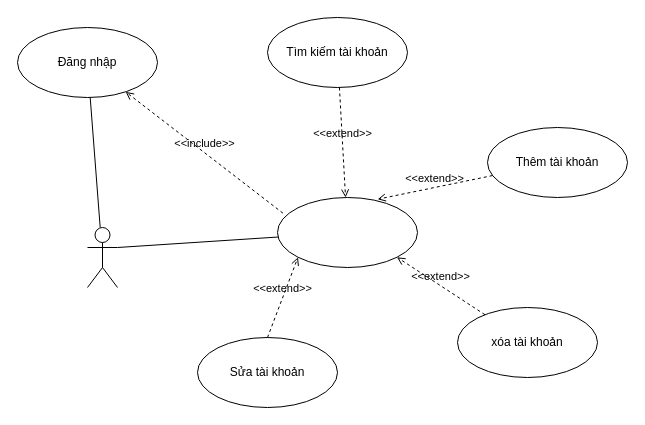
This 645x425 diagram has some shape labels left out. The box of each missing label's shape, as (x1, y1, x2, y2) in pixels:
Actor: (86, 226, 118, 288)
QL tài khoản: (276, 196, 418, 268)
